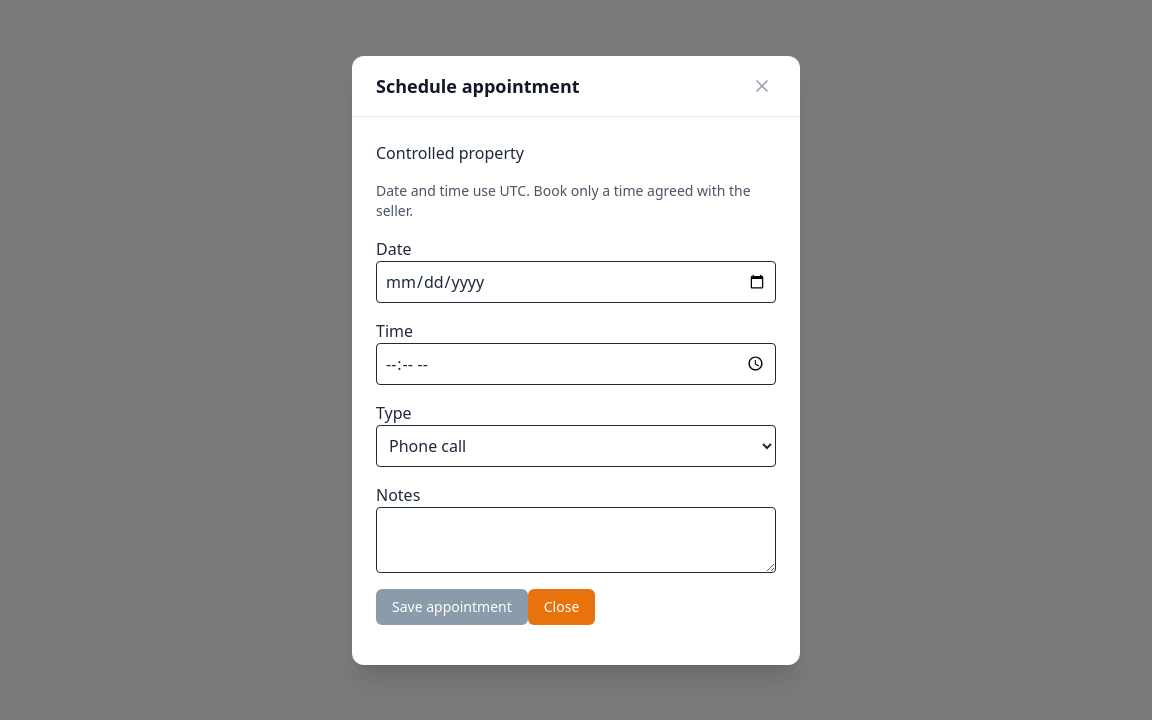
Test: past dates do not submit an appointment
Type "2000-01-01" into the date field named "Appointment date".
click(576, 282); type("2000-01-01")  # box [376,260,776,302]
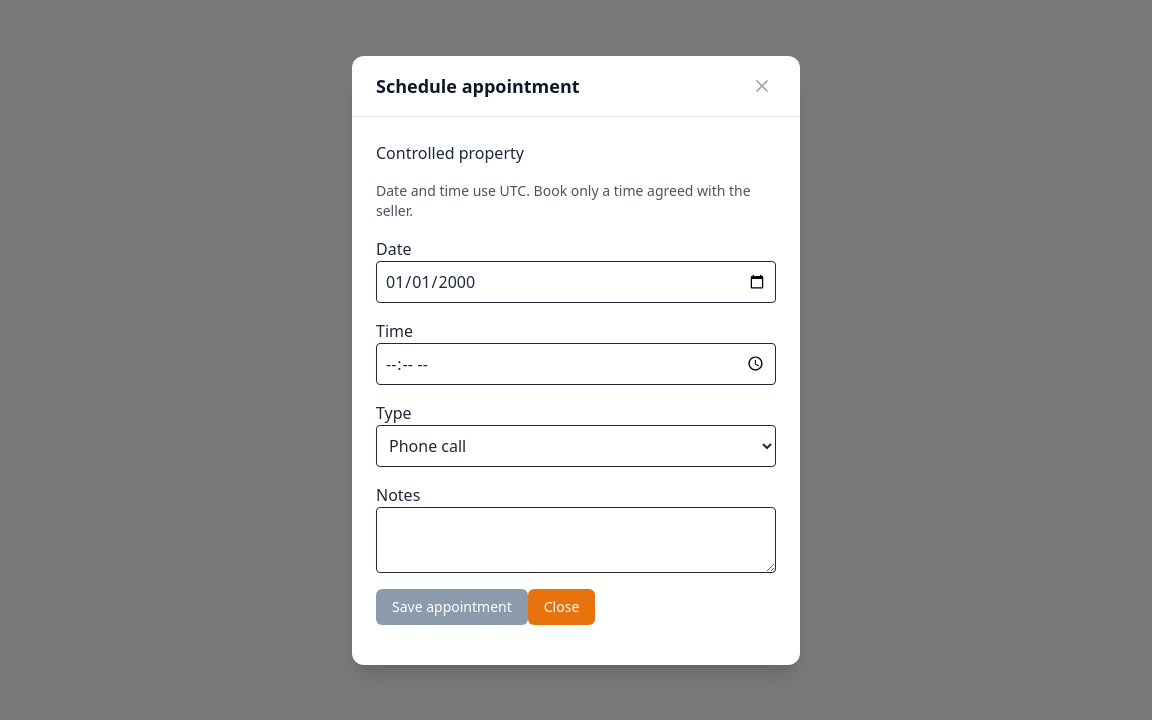
Type "10:00" into the time field named "Appointment time".
click(576, 364); type("10:00")  # box [376,342,776,384]
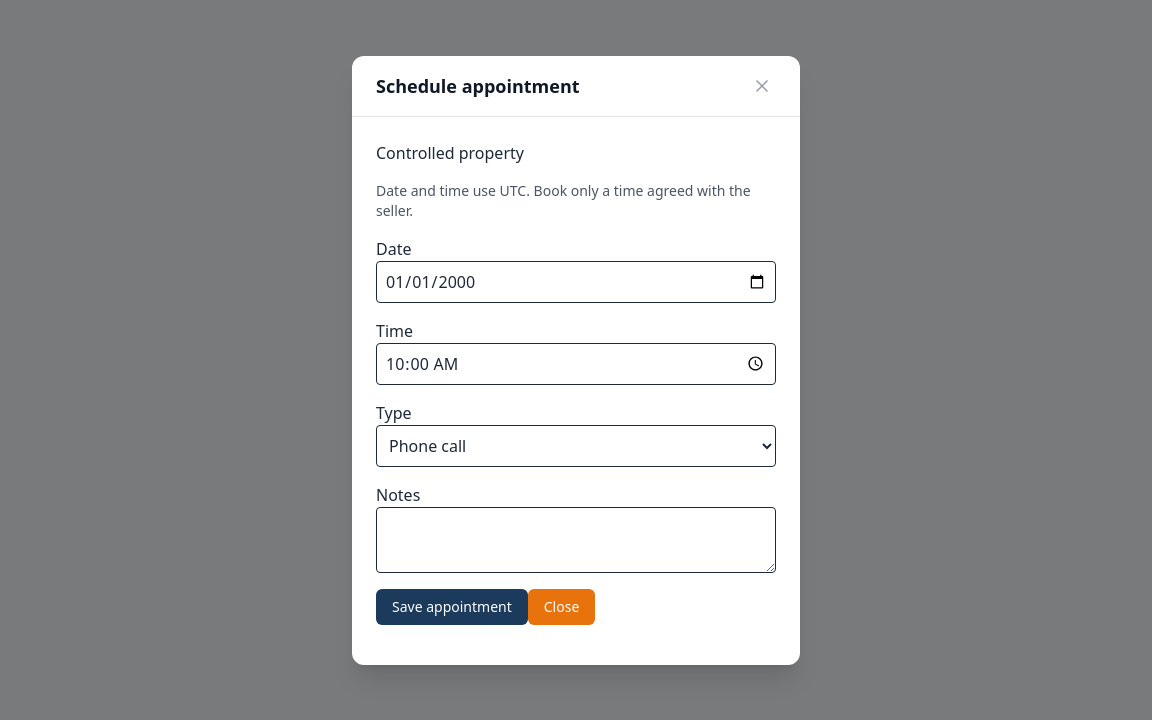
Click the button "Save appointment".
click(452, 606)  # box [376,588,528,624]
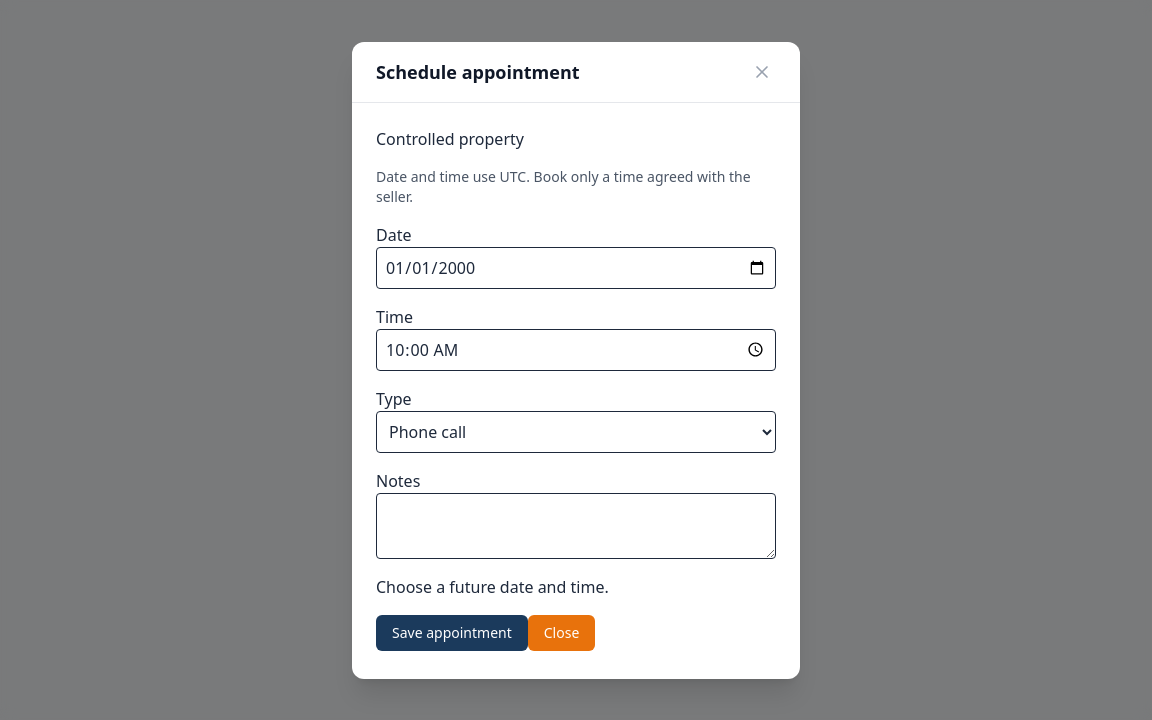
Expected: the text "Choose a future date and time." is shown, [376,576,609,598]
